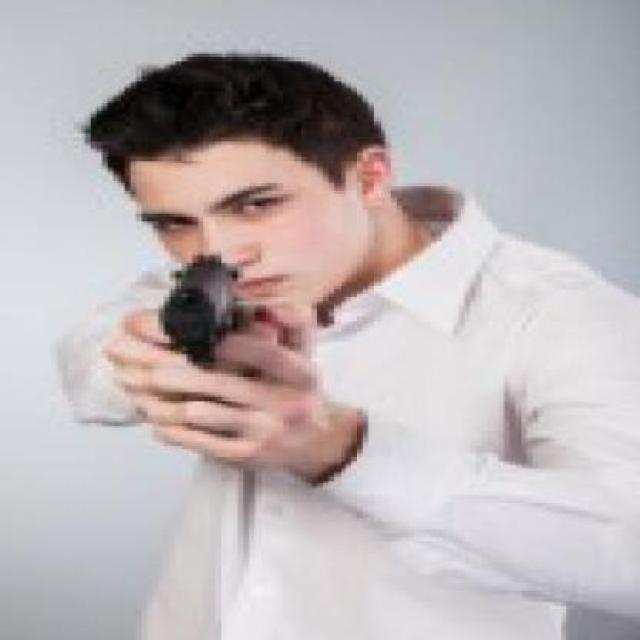gun: (140, 245, 308, 470)
